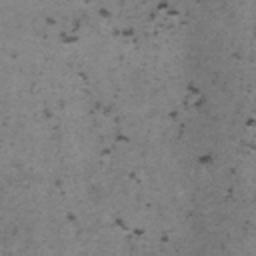Oxide scale of temperature system: (1, 0, 191, 244), (168, 83, 256, 232), (230, 51, 244, 61), (65, 211, 78, 221), (56, 178, 64, 188)
